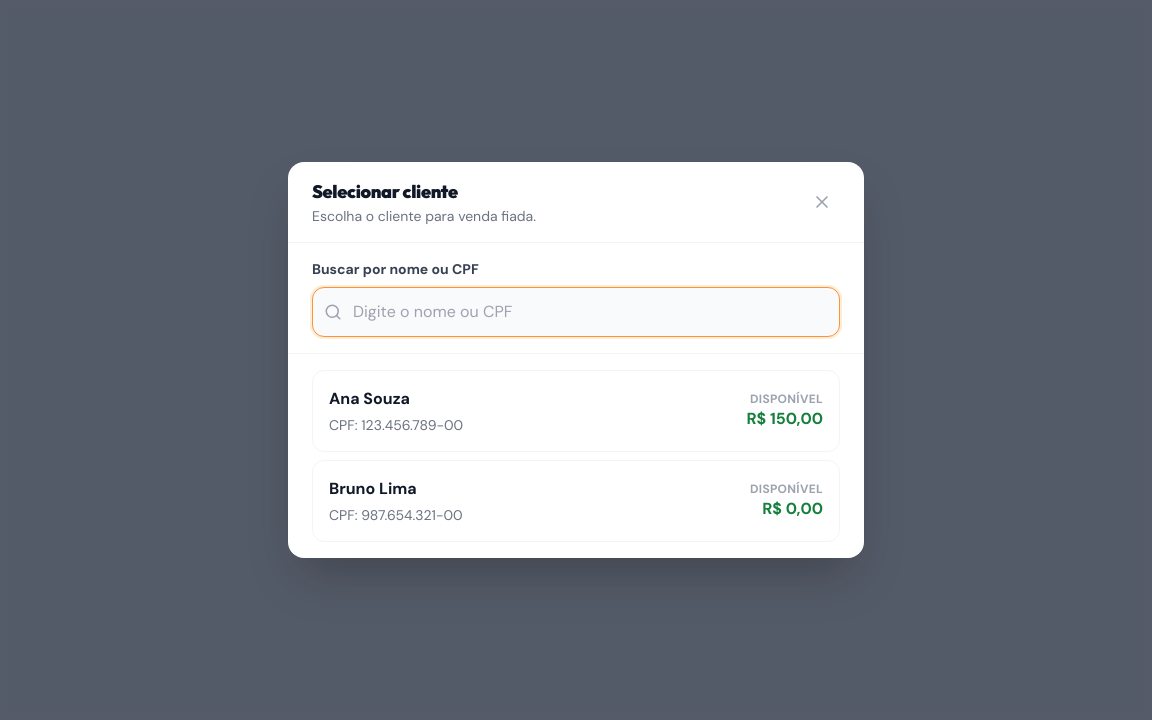
CustomerSelectorModal › shows a no-results state when name and CPF do not match the search
Expected: the button with aria-label "Selecionar Ana Souza" is shown, [312, 370, 840, 452]
In the search field labelled "Buscar por nome ou CPF": [576, 312] box [312, 287, 840, 337], type "telefone"
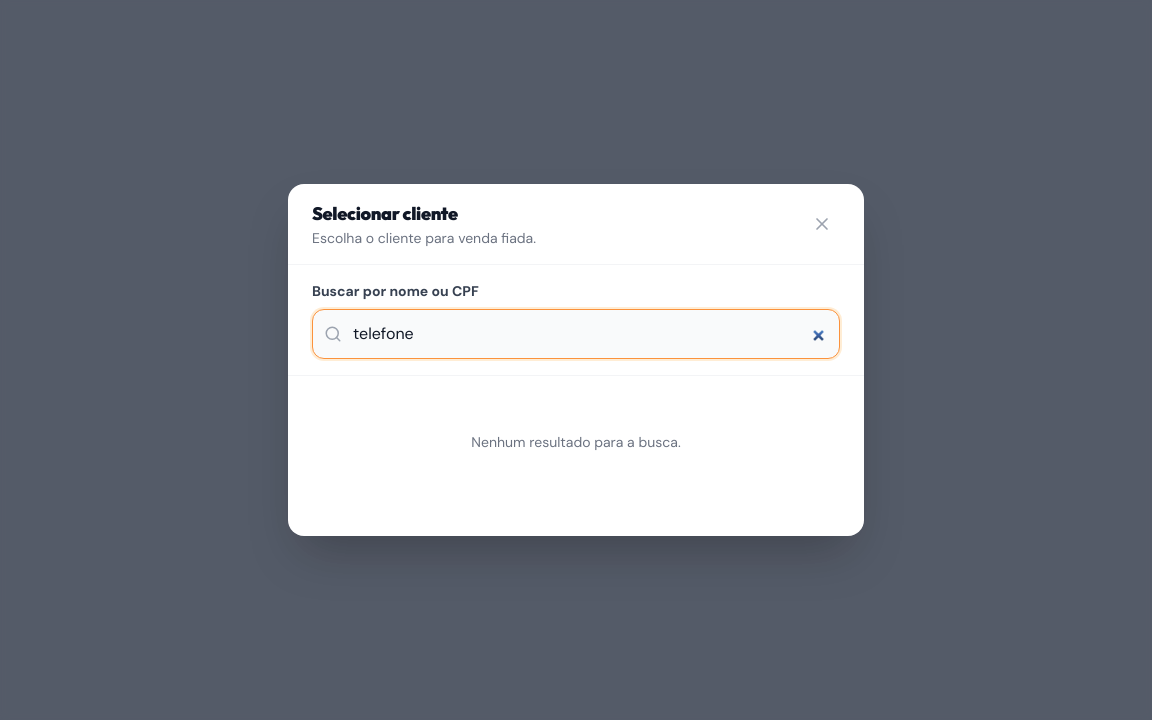
Expected: the text "Nenhum resultado para a busca." is shown, [471, 433, 681, 451]
